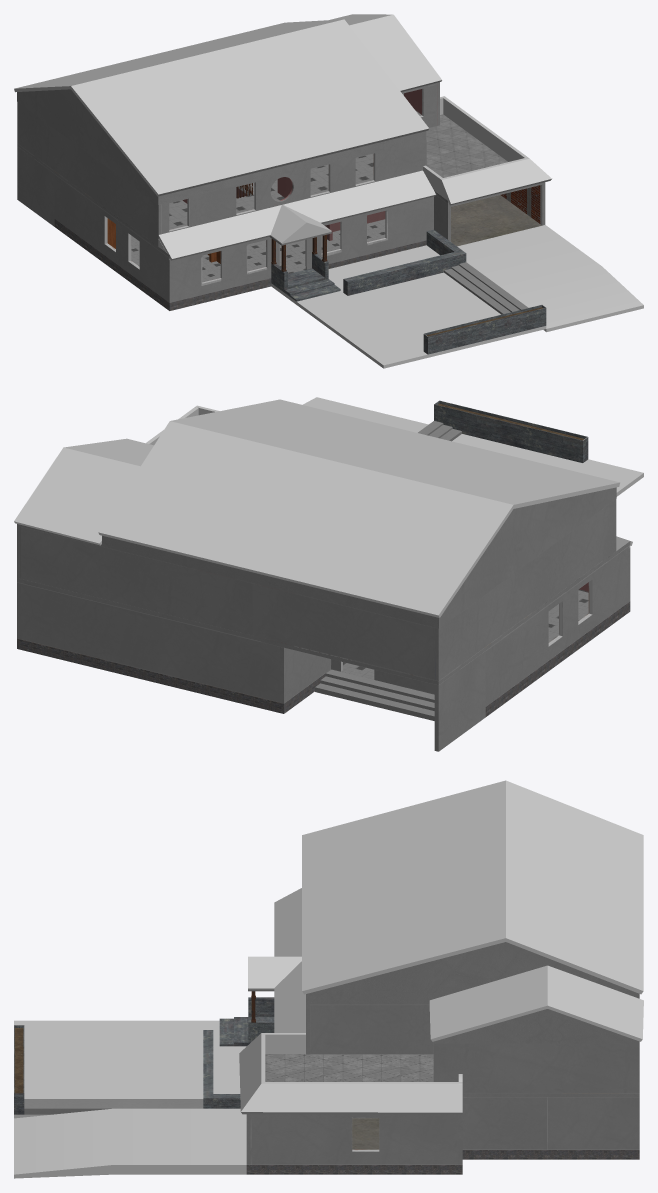
The model's file is MansionJunta.fbx.
The picture shows the model from 3 angles, top to bottom: view 1: azimuth 30°, elevation 25°; view 2: azimuth 150°, elevation 25°; view 3: azimuth 270°, elevation 25°; orthographic projection. The views are drawn at different scales.
Parts seen in each view (by area): view 1: Tejados_B, Rampa, ModuloP1_A, ModuloP2_A, Fuera, Piso, Tejados_A, Techo_Piso, ModuloP1_B; view 2: Tejados_B, ModuloP2_B, ModuloP1_C, ModuloP1_A, Tejados_A, ModuloP2_A, Fuera, Piso, Rampa, Techo_Piso; view 3: Tejados_B, Rampa, ModuloP1_B, Tejados_A, ModuloP2_B, Fuera, ModuloP2_A, Techo_Piso, ModuloP1_C, Piso.
Boxes of the visible parts, left/top/right/bottom form: Tejados_B: left=14, top=14, right=551, bottom=260; Rampa: left=271, top=225, right=643, bottom=368; ModuloP1_A: left=17, top=147, right=433, bottom=302; ModuloP2_A: left=17, top=84, right=436, bottom=246; Fuera: left=269, top=229, right=546, bottom=354; Piso: left=54, top=195, right=541, bottom=310; Tejados_A: left=17, top=82, right=439, bottom=204; Techo_Piso: left=17, top=110, right=507, bottom=257; ModuloP1_B: left=107, top=182, right=545, bottom=263; Tejados_B: left=14, top=399, right=632, bottom=617; ModuloP2_B: left=17, top=525, right=434, bottom=680; ModuloP1_C: left=17, top=582, right=330, bottom=703; ModuloP1_A: left=331, top=545, right=630, bottom=751; Tejados_A: left=17, top=487, right=616, bottom=628; ModuloP2_A: left=435, top=499, right=616, bottom=681; Fuera: left=315, top=400, right=588, bottom=720; Piso: left=17, top=590, right=630, bottom=716; Rampa: left=302, top=397, right=643, bottom=496; Techo_Piso: left=17, top=541, right=630, bottom=685; Tejados_B: left=239, top=780, right=643, bottom=1114; Rampa: left=14, top=1020, right=246, bottom=1178; ModuloP1_B: left=246, top=1097, right=546, bottom=1164; Tejados_A: left=306, top=942, right=639, bottom=1043; ModuloP2_B: left=433, top=1043, right=639, bottom=1093; Fuera: left=14, top=989, right=274, bottom=1114; ModuloP2_A: left=306, top=1004, right=433, bottom=1054; Techo_Piso: left=265, top=1054, right=639, bottom=1096; ModuloP1_C: left=547, top=1097, right=639, bottom=1149; Piso: left=246, top=1118, right=639, bottom=1174.
Bounding box in the file's own units: 26.02 × 10.67 × 32.46.
